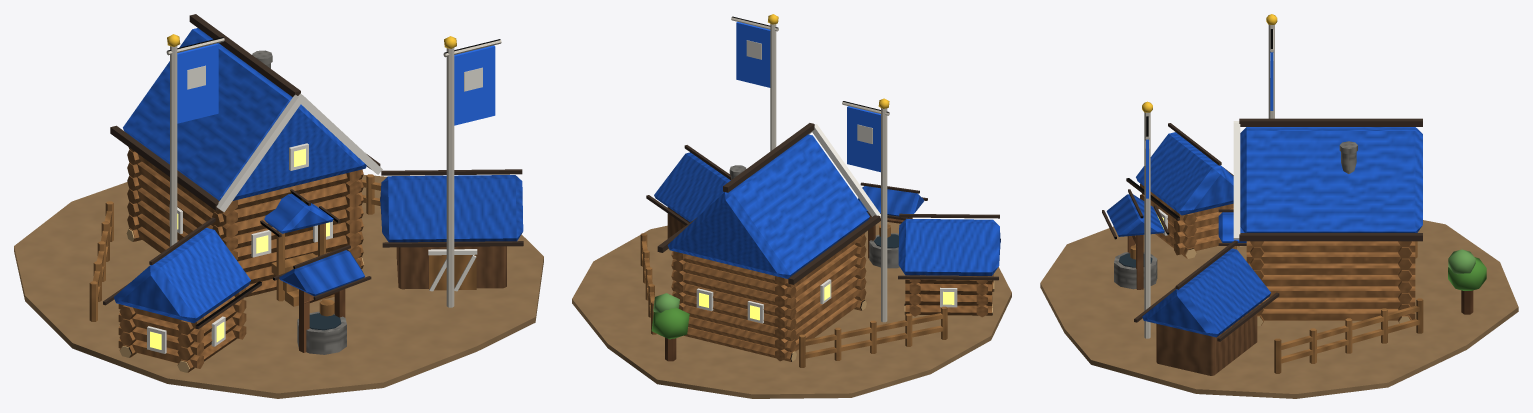
The model's file is residence_dl2_blue.glb.
The picture shows the model from 3 angles, left to right: view 1: azimuth 30°, elevation 25°; view 2: azimuth 150°, elevation 25°; view 3: azimuth 270°, elevation 25°; orthographic projection. The views are drawn at different scales.
Parts seen in each view (by area): view 1: residence_dl2_blue; view 2: residence_dl2_blue; view 3: residence_dl2_blue.
Boxes of the visible parts, box(x1,y1,x2,y2) form: residence_dl2_blue: box(14, 14, 543, 398); residence_dl2_blue: box(572, 14, 1011, 398); residence_dl2_blue: box(1040, 14, 1518, 398).
Bounding box in the file's own units: 1.55 × 0.897 × 1.61.
Materials: 2 (1 with a texture image).
